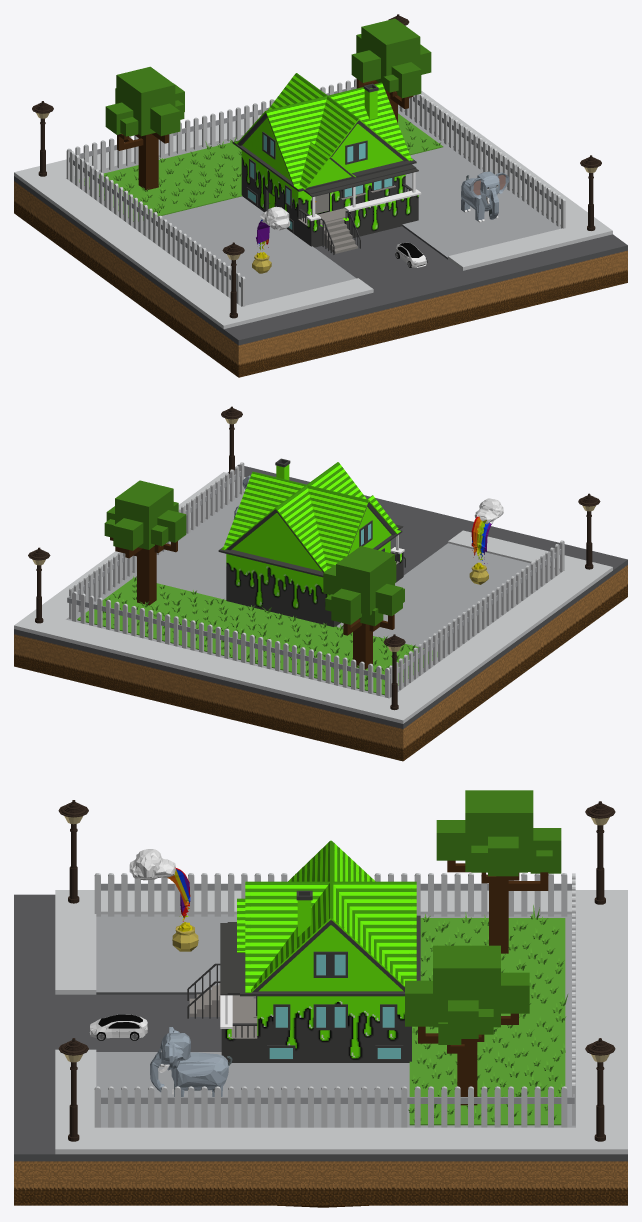
3 views of the same model, one above another, from view 1: azimuth 30°, elevation 25°; view 2: azimuth 150°, elevation 25°; view 3: azimuth 270°, elevation 25° (orthographic). The views are drawn at different scales.
Parts seen in each view (by area): view 1: Cube.004, Cube.754, ANIMAL_ELEFANTE, OBJRANDOM_RAINBOW, VEHICLES_TESLA; view 2: Cube.004, Cube.754, OBJRANDOM_RAINBOW; view 3: Cube.004, Cube.754, ANIMAL_ELEFANTE, OBJRANDOM_RAINBOW, VEHICLES_TESLA.
Part boxes in pixels (x1,y1,x2,y2): Cube.004: (14,14,627,377); Cube.754: (233,73,421,254); ANIMAL_ELEFANTE: (461,171,509,222); OBJRANDOM_RAINBOW: (252,206,290,273); VEHICLES_TESLA: (395,242,427,267); Cube.004: (14,406,627,761); Cube.754: (218,458,405,626); OBJRANDOM_RAINBOW: (469,498,503,584); Cube.004: (14,790,627,1205); Cube.754: (187,840,420,1062); ANIMAL_ELEFANTE: (150,1027,232,1096); OBJRANDOM_RAINBOW: (129,849,198,951); VEHICLES_TESLA: (89,1014,147,1040).
Size of the model in its own units: 4000 by 1666 by 4000.
39 materials, 4 textured.
